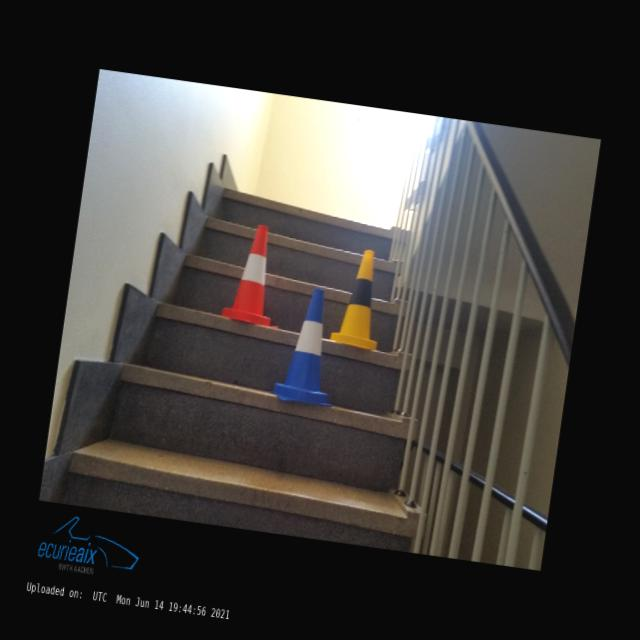blue_cone: (270, 284, 348, 406)
orange_cone: (221, 221, 292, 328)
yellow_cone: (330, 247, 390, 351)
